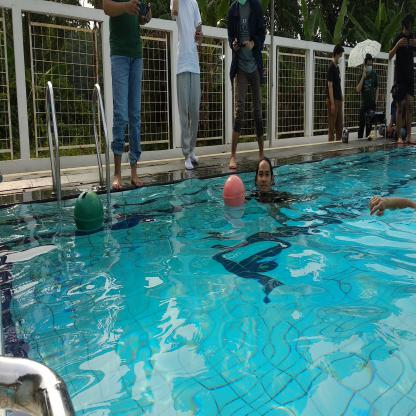green_buoy: (69, 182, 110, 245)
red_buoy: (217, 164, 252, 220)
